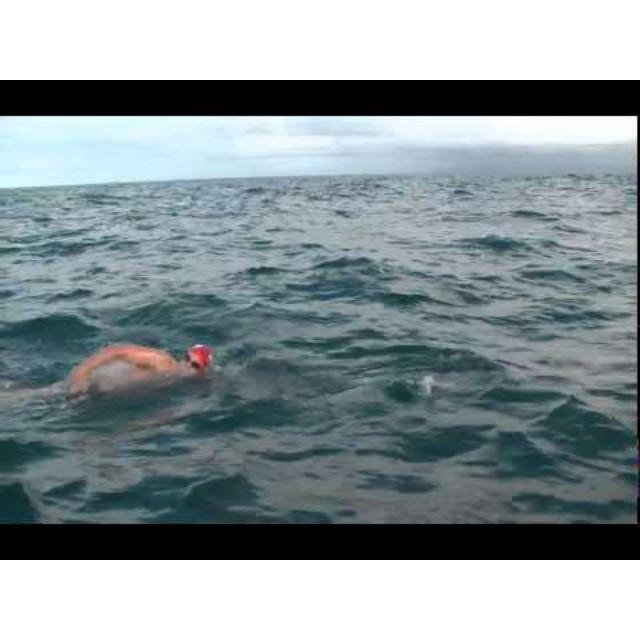human: (67, 336, 211, 397)
